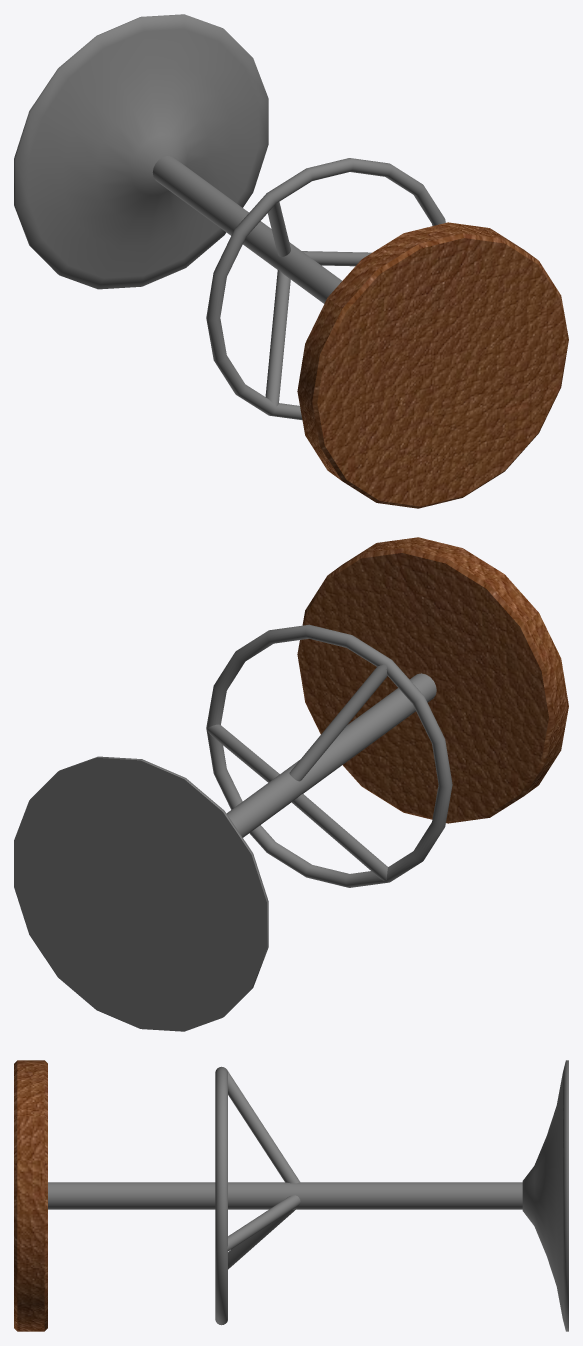
File: Bar Stool 20.obj
3 views of the same model, one above another, from view 1: azimuth 30°, elevation 25°; view 2: azimuth 150°, elevation 25°; view 3: azimuth 270°, elevation 25° (orthographic). The views are drawn at different scales.
Visible parts, largest first — view 1: INTERIOR_-_FURNITURE_ METAL_-_CHROME_01 SMOOTH_PART, INTERIOR_-_FURNITURE_ LEATHER_-_TABAC FLAT_PART, INTERIOR_-_FURNITURE_ LEATHER_-_TABAC SMOOTH_PART; view 2: INTERIOR_-_FURNITURE_ METAL_-_CHROME_01 FLAT_PART, INTERIOR_-_FURNITURE_ LEATHER_-_TABAC FLAT_PART, INTERIOR_-_FURNITURE_ METAL_-_CHROME_01 SMOOTH_PART, INTERIOR_-_FURNITURE_ LEATHER_-_TABAC SMOOTH_PART; view 3: INTERIOR_-_FURNITURE_ METAL_-_CHROME_01 SMOOTH_PART, INTERIOR_-_FURNITURE_ LEATHER_-_TABAC SMOOTH_PART.
Boxes of the visible parts, left/top/right/bottom form: INTERIOR_-_FURNITURE_ METAL_-_CHROME_01 SMOOTH_PART: left=14, top=14, right=445, bottom=419; INTERIOR_-_FURNITURE_ LEATHER_-_TABAC FLAT_PART: left=317, top=238, right=567, bottom=506; INTERIOR_-_FURNITURE_ LEATHER_-_TABAC SMOOTH_PART: left=297, top=222, right=568, bottom=508; INTERIOR_-_FURNITURE_ METAL_-_CHROME_01 FLAT_PART: left=14, top=757, right=266, bottom=1031; INTERIOR_-_FURNITURE_ LEATHER_-_TABAC FLAT_PART: left=298, top=553, right=548, bottom=821; INTERIOR_-_FURNITURE_ METAL_-_CHROME_01 SMOOTH_PART: left=58, top=624, right=452, bottom=1016; INTERIOR_-_FURNITURE_ LEATHER_-_TABAC SMOOTH_PART: left=297, top=537, right=568, bottom=823; INTERIOR_-_FURNITURE_ METAL_-_CHROME_01 SMOOTH_PART: left=48, top=1060, right=568, bottom=1331; INTERIOR_-_FURNITURE_ LEATHER_-_TABAC SMOOTH_PART: left=14, top=1060, right=47, bottom=1331.
Size of the model in its own units: 400 by 400 by 815.
